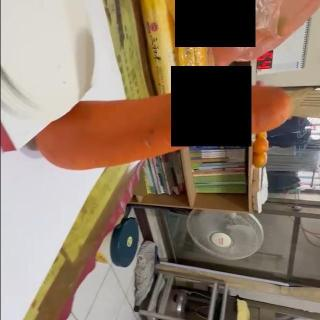carrot: (34, 87, 294, 170)
